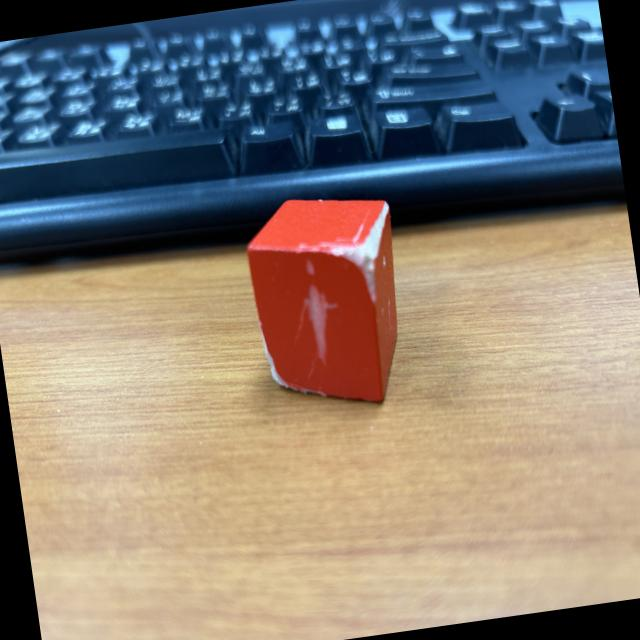broken: (239, 184, 417, 419)
